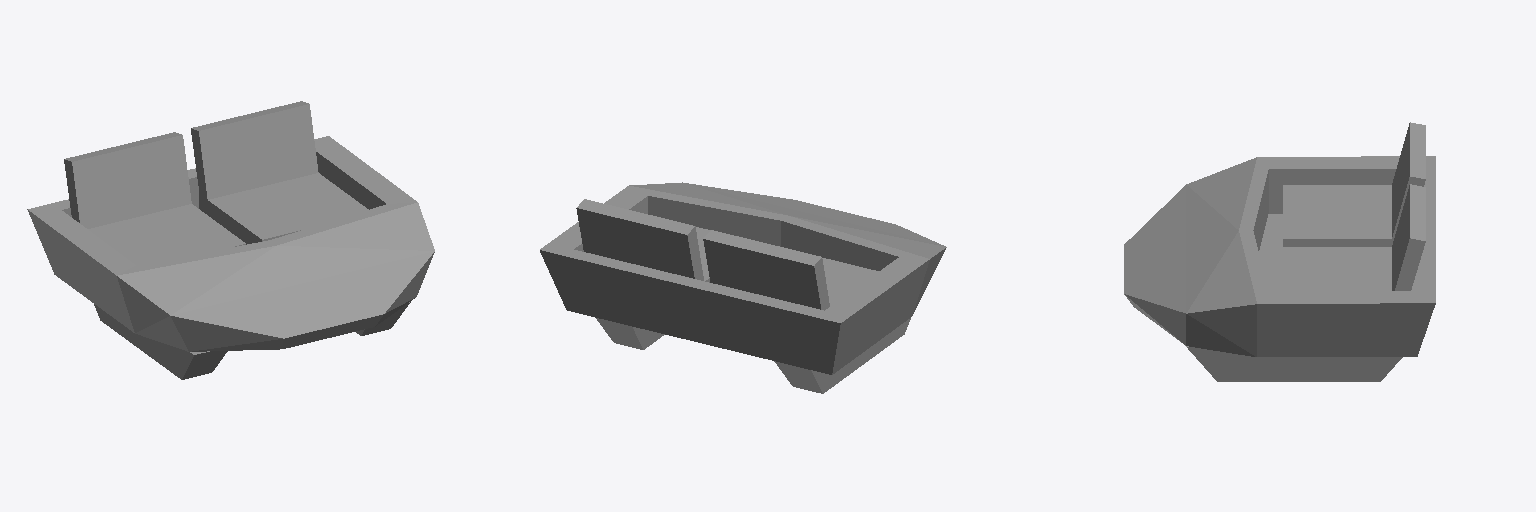
Rendered from coaster_d.obj.
The picture shows the model from 3 angles: view 1: azimuth 30°, elevation 25°; view 2: azimuth 150°, elevation 25°; view 3: azimuth 270°, elevation 25°; orthographic projection.
Visible parts, largest first — view 1: Cube2; view 2: Cube2; view 3: Cube2.
Boxes of the visible parts, x1=… form: Cube2: x1=27, y1=101, x2=434, y2=379; Cube2: x1=540, y1=182, x2=946, y2=393; Cube2: x1=1124, y1=122, x2=1435, y2=381.
Size of the model in its own units: 2.72 by 1.31 by 2.44.